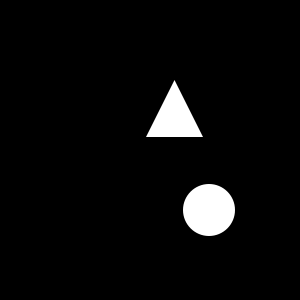rectangle: (183, 184, 235, 236)
triangle: (146, 80, 203, 137)
